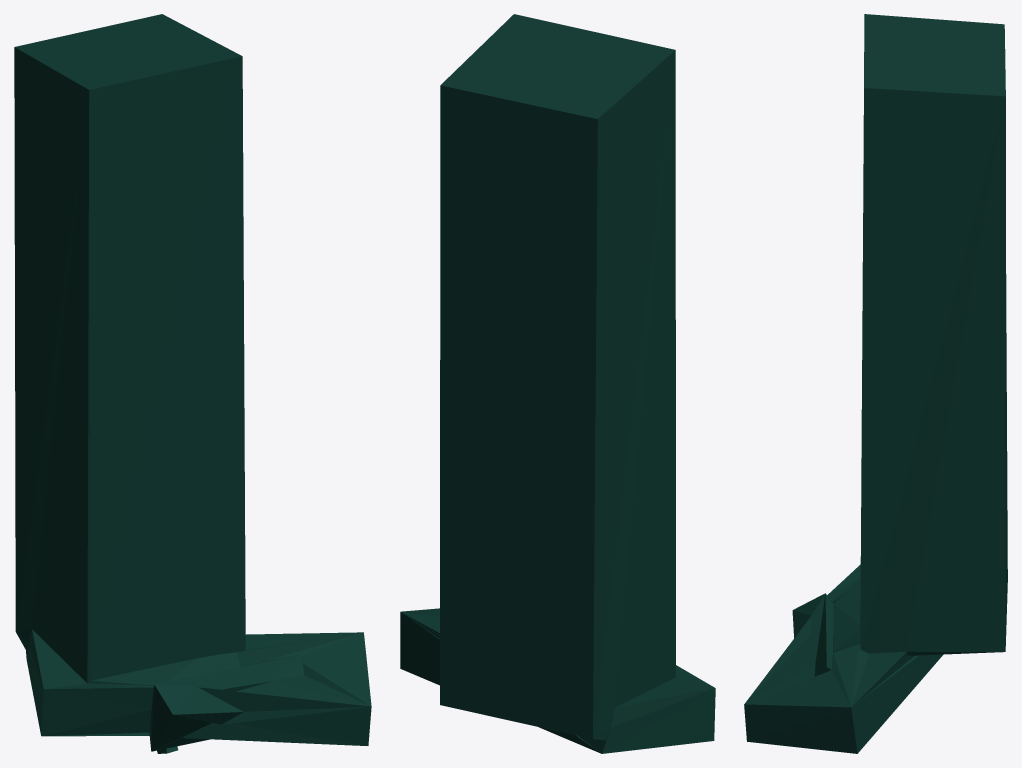
3 views of the same model, side by side, from view 1: azimuth 30°, elevation 25°; view 2: azimuth 150°, elevation 25°; view 3: azimuth 270°, elevation 25° (orthographic). The views are drawn at different scales.
Visible parts, largest first — view 1: 193_Cube.799; view 2: 193_Cube.799; view 3: 193_Cube.799.
Boxes of the visible parts, x1=… form: 193_Cube.799: x1=14, y1=14, x2=371, y2=753; 193_Cube.799: x1=400, y1=14, x2=715, y2=753; 193_Cube.799: x1=744, y1=14, x2=1007, y2=753.
Size of the model in its own units: 6.46 by 13.35 by 5.03.
